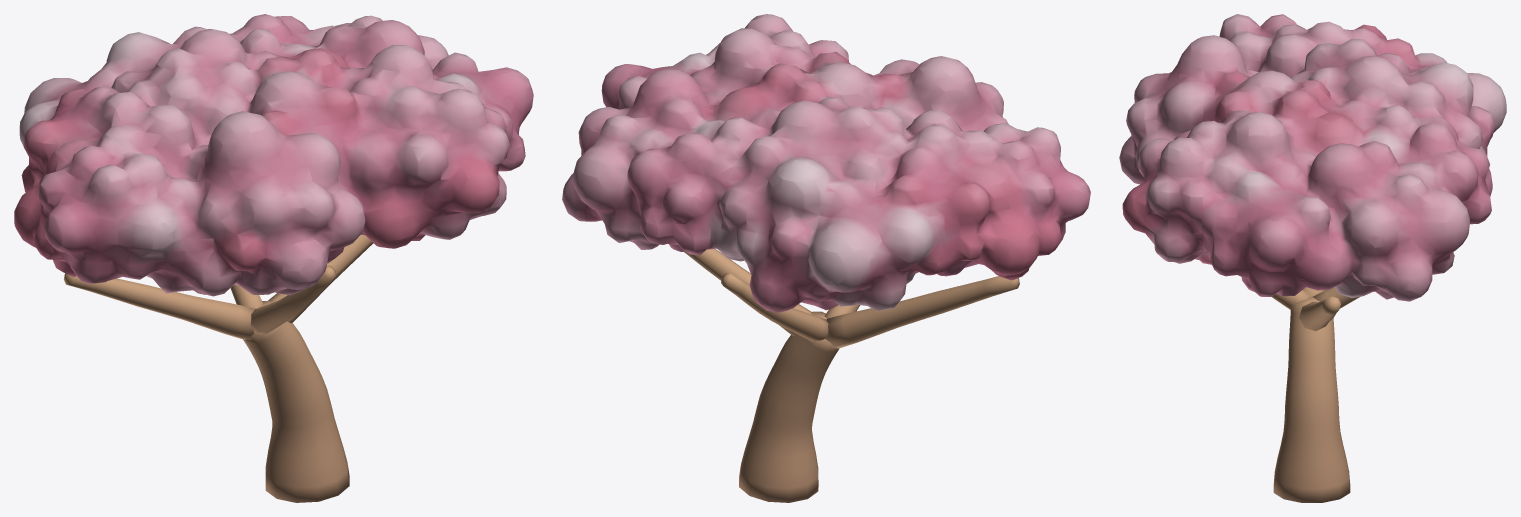
File: blossom-tree-c.glb
3 renders of one model, left to right at view 1: azimuth 30°, elevation 25°; view 2: azimuth 150°, elevation 25°; view 3: azimuth 270°, elevation 25°, orthographic. The views are drawn at different scales.
Parts seen in each view (by area): view 1: blossom-tree-c; view 2: blossom-tree-c; view 3: blossom-tree-c.
Boxes of the visible parts, x1=… form: blossom-tree-c: x1=14, y1=14, x2=533, y2=502; blossom-tree-c: x1=562, y1=14, x2=1090, y2=502; blossom-tree-c: x1=1119, y1=14, x2=1506, y2=502.
Size of the model in its own units: 4.67 by 4 by 3.47.
